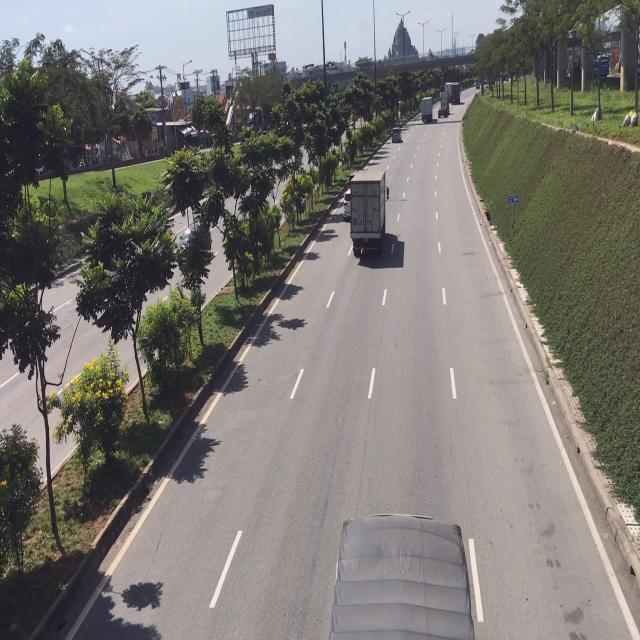truck: (332, 512, 473, 640), (350, 169, 388, 254), (421, 95, 434, 127)
